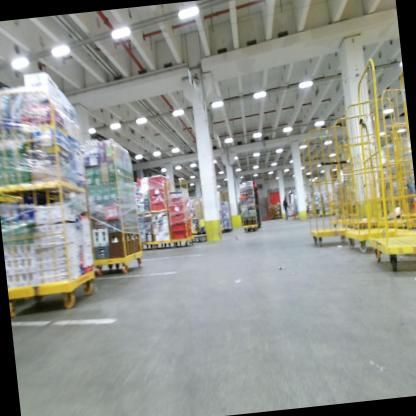pallet_truck: (236, 178, 265, 233)
small_load_carrier: (145, 171, 169, 191), (147, 184, 173, 200), (166, 194, 189, 211), (168, 202, 192, 217), (148, 200, 168, 216), (147, 189, 167, 204), (170, 227, 193, 239), (170, 219, 192, 231), (168, 214, 191, 225)
